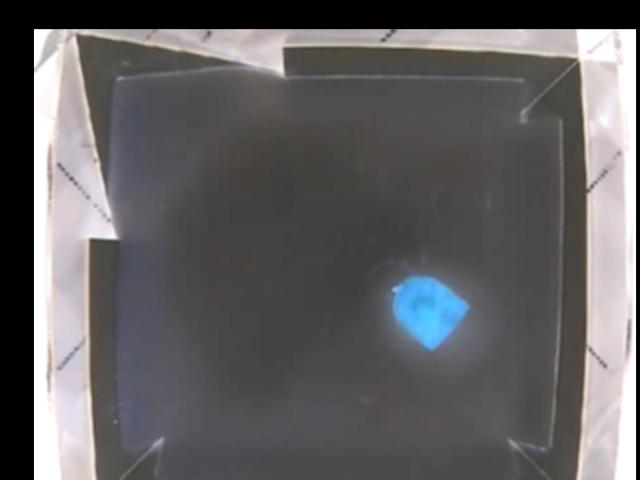Carrot: (393, 276, 470, 347)
